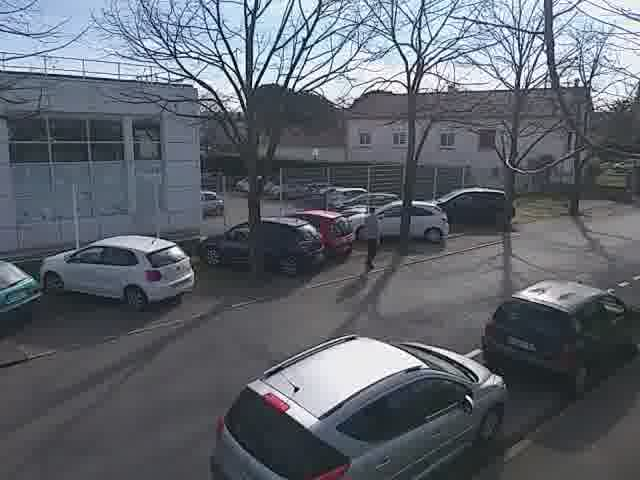persona: (354, 196, 389, 276)
